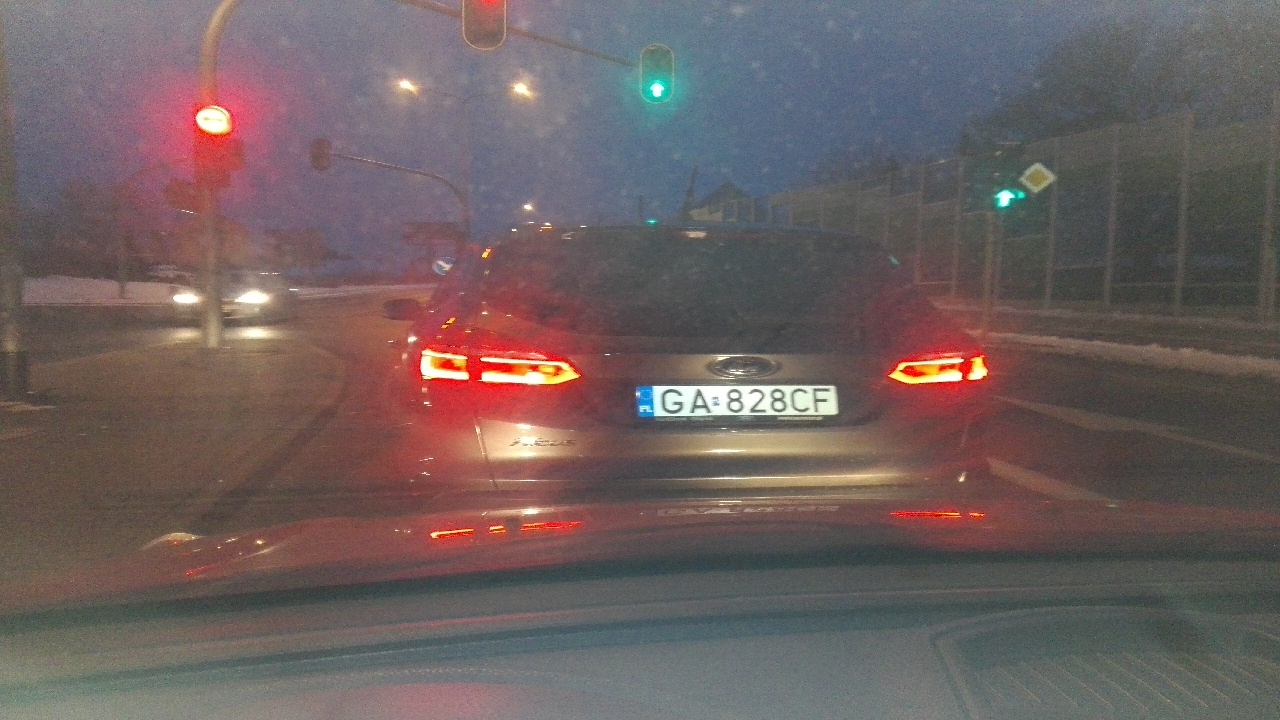D1: (1018, 162, 1056, 194)
Green: (995, 147, 1014, 211), (647, 49, 667, 100)
Red: (196, 105, 232, 185)
